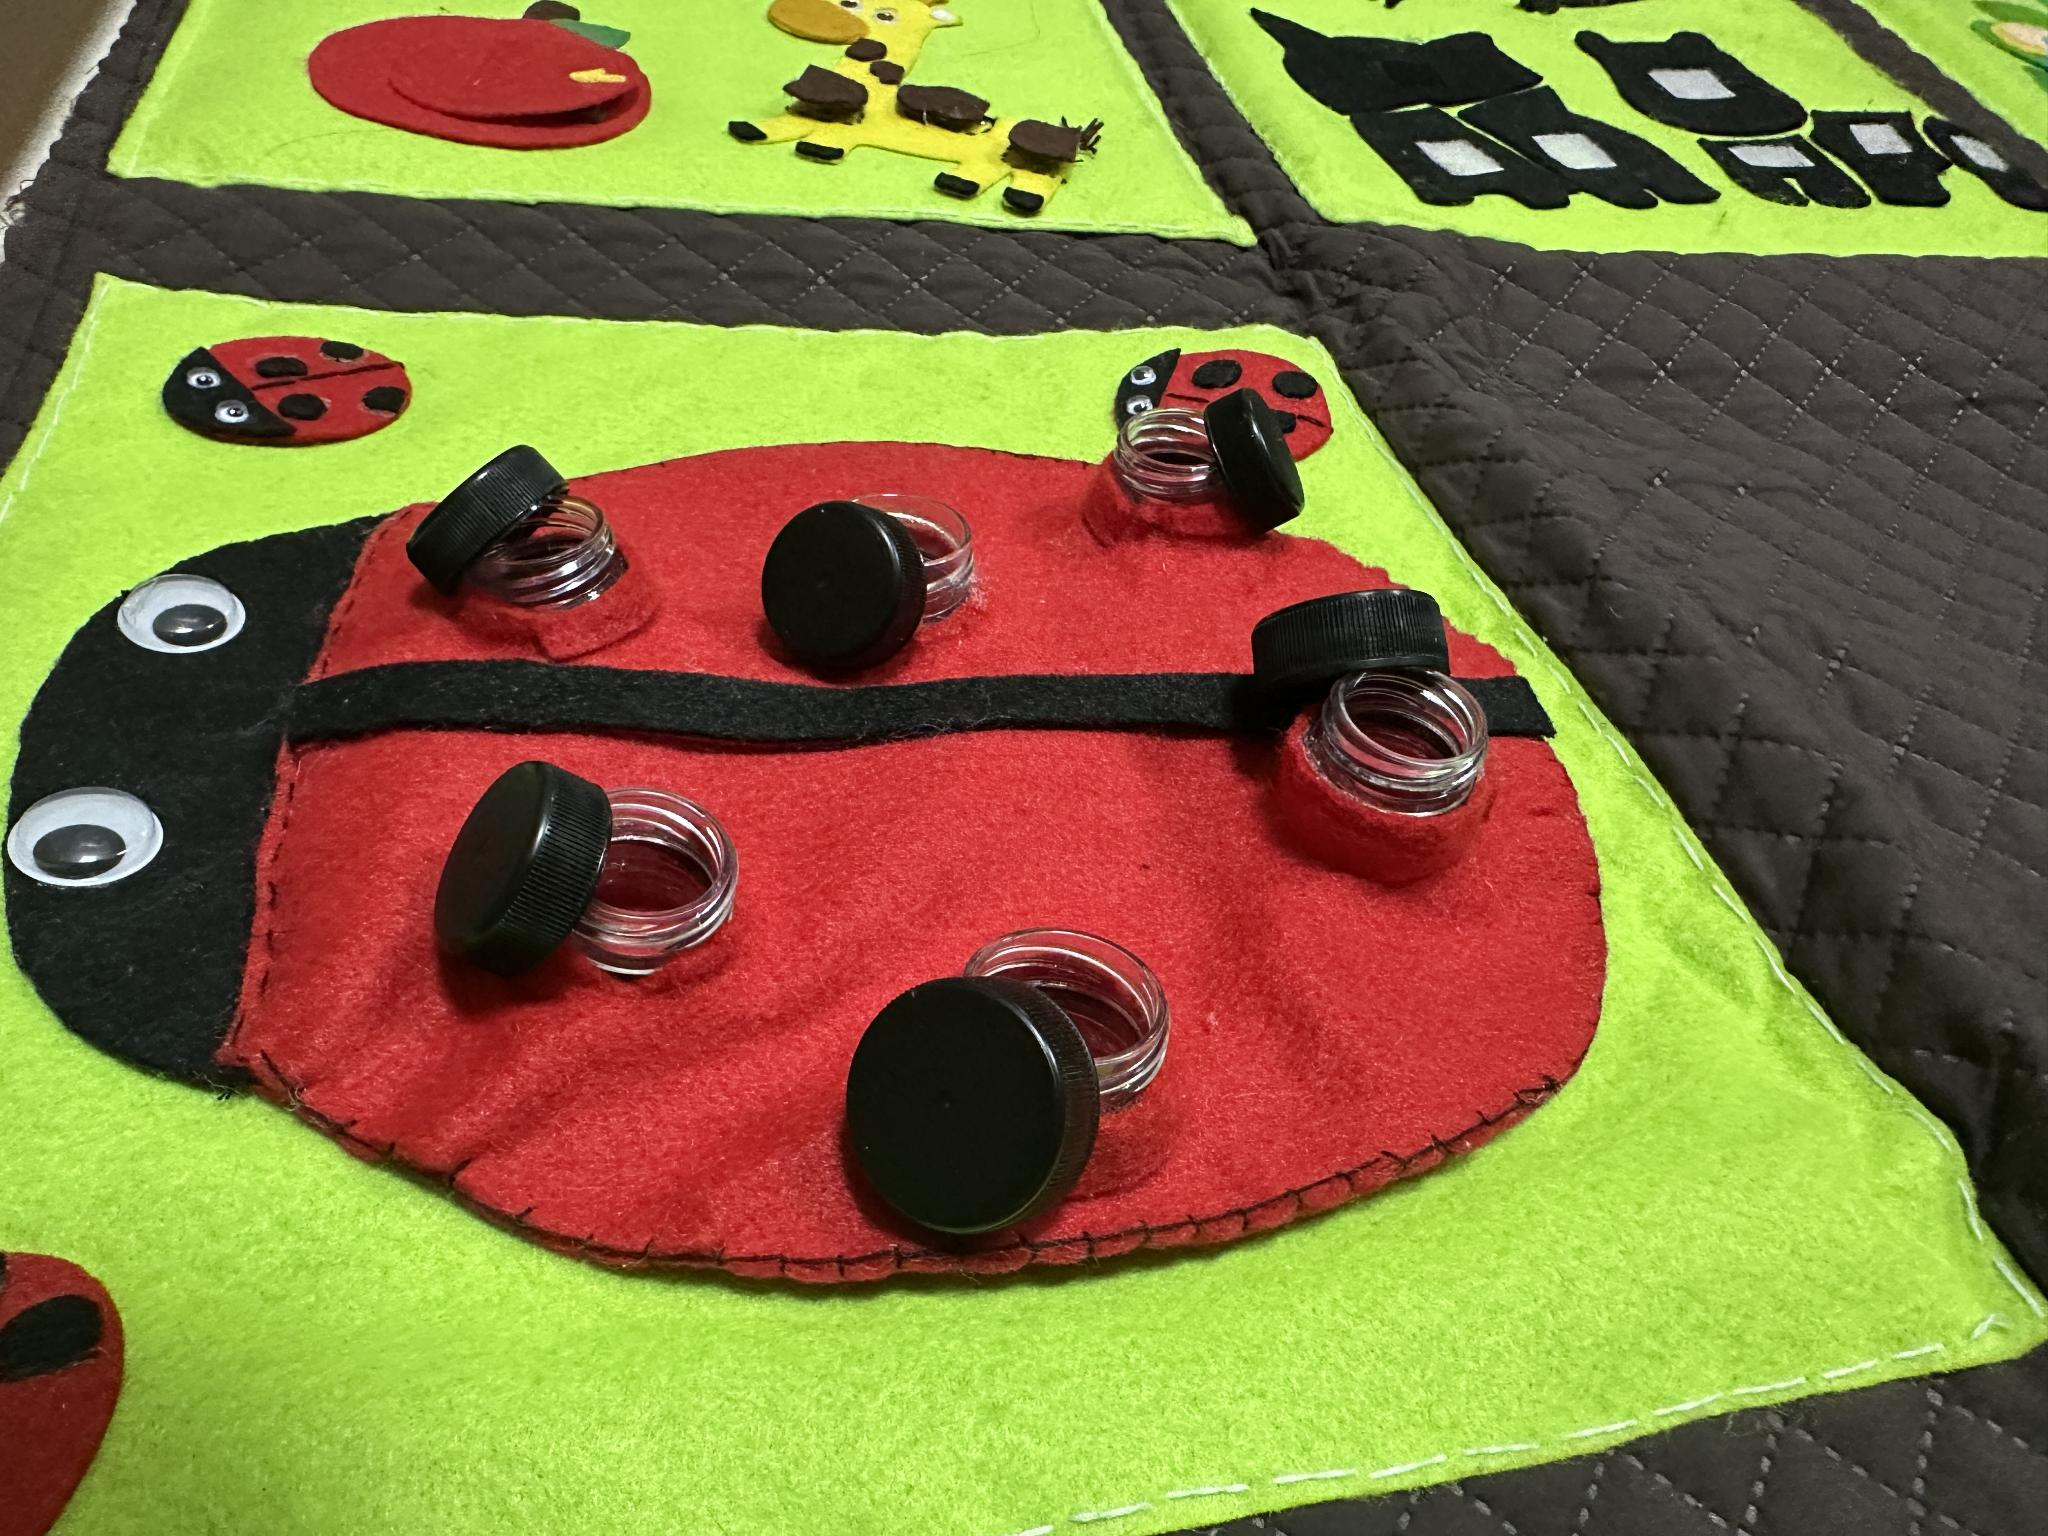cap_ng: (819, 907, 1208, 1265), (423, 742, 774, 1034), (1227, 570, 1500, 870), (397, 432, 682, 663), (747, 458, 1005, 694), (1072, 381, 1309, 573)
